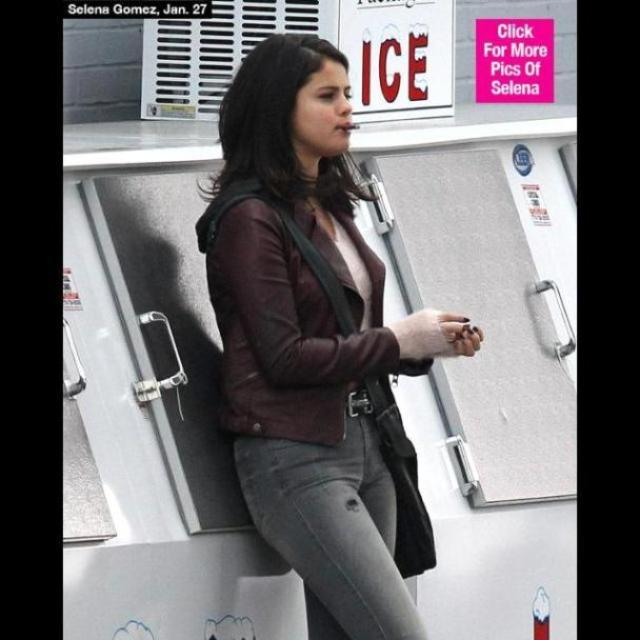rokok: (333, 118, 363, 138)
